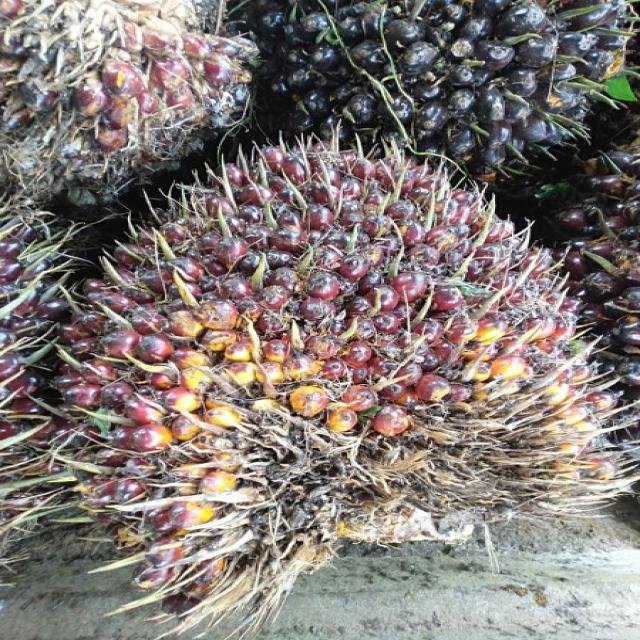fraksi 1: (63, 47, 603, 599)
